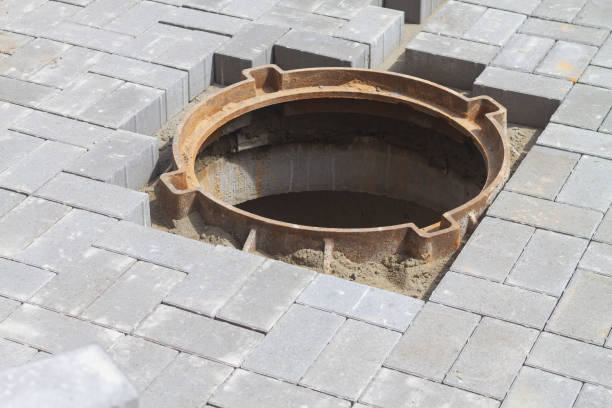open_manhole: (171, 47, 509, 259)
